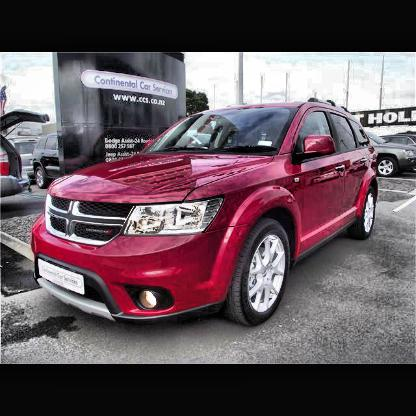Dodge Journey SUV 2012: (32, 101, 379, 329)
